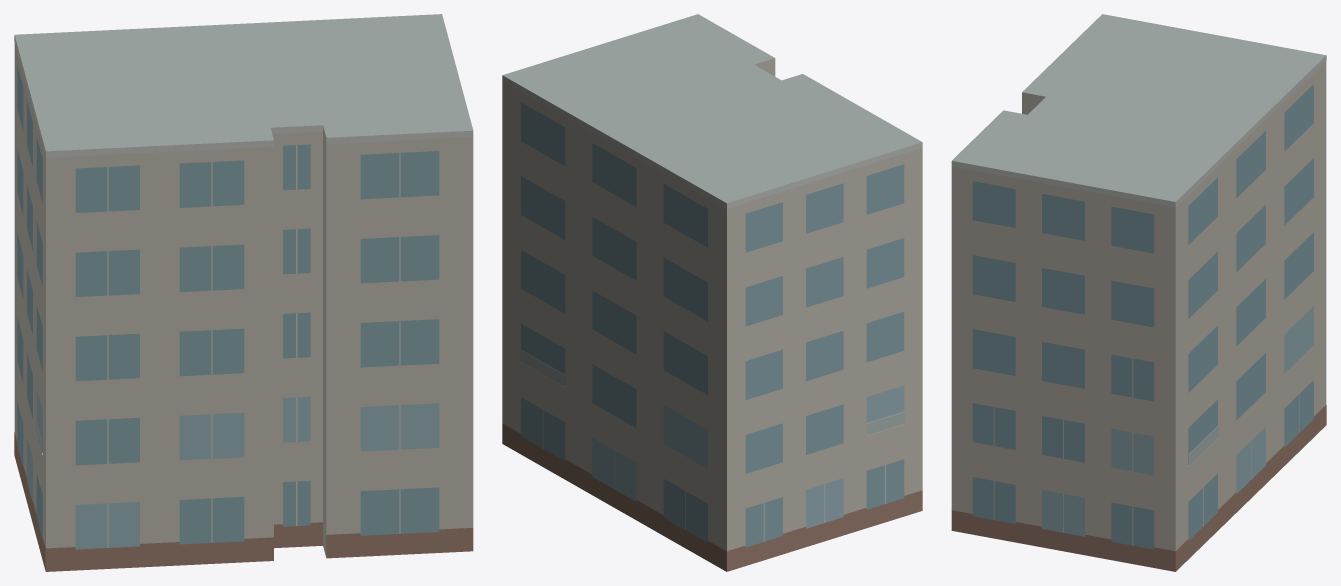
File: survey-upis-33019041.glb
The picture shows the model from 3 angles, left to right: view 1: azimuth 30°, elevation 25°; view 2: azimuth 150°, elevation 25°; view 3: azimuth 270°, elevation 25°; orthographic projection. The views are drawn at different scales.
Parts seen in each view (by area): view 1: survey-upis-33019041.tmp; view 2: survey-upis-33019041.tmp; view 3: survey-upis-33019041.tmp.
Part boxes in pixels (x1=…): survey-upis-33019041.tmp: x1=14, y1=14, x2=473, y2=571; survey-upis-33019041.tmp: x1=502, y1=14, x2=922, y2=571; survey-upis-33019041.tmp: x1=951, y1=14, x2=1326, y2=571.
Bounding box in the file's own units: 17.73 × 16.26 × 14.94.
